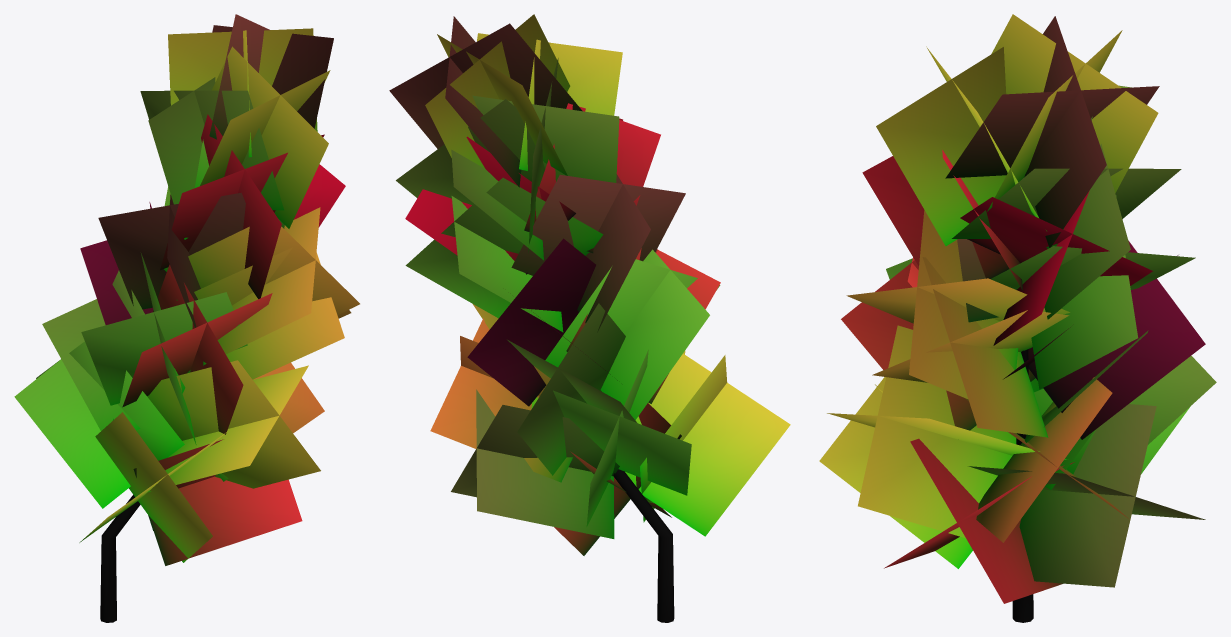
Rendered from Tree_14.fbx.
3 renders of one model, left to right at view 1: azimuth 30°, elevation 25°; view 2: azimuth 150°, elevation 25°; view 3: azimuth 270°, elevation 25°, orthographic. The views are drawn at different scales.
Parts seen in each view (by area): view 1: Tree_14; view 2: Tree_14; view 3: Tree_14.
Part boxes in pixels (<box>): Tree_14: <box>14,14,359,622</box>; Tree_14: <box>389,14,790,622</box>; Tree_14: <box>819,14,1216,622</box>.
Size of the model in its own units: 489 by 855 by 449.
